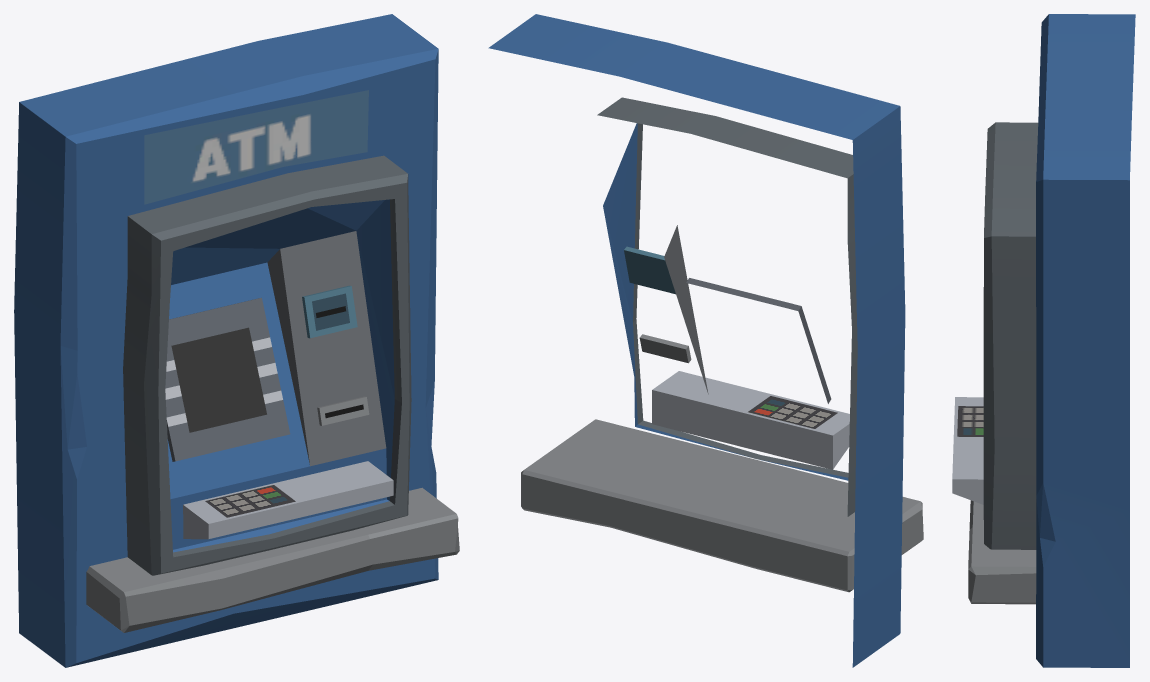
Rendered from atm.glb.
3 renders of one model, left to right at view 1: azimuth 30°, elevation 25°; view 2: azimuth 150°, elevation 25°; view 3: azimuth 270°, elevation 25°, orthographic. The views are drawn at different scales.
Parts seen in each view (by area): view 1: SM_Prop_ATM_01; view 2: SM_Prop_ATM_01; view 3: SM_Prop_ATM_01.
Boxes of the visible parts, x1=… form: SM_Prop_ATM_01: x1=14, y1=14, x2=459, y2=667; SM_Prop_ATM_01: x1=488, y1=14, x2=923, y2=667; SM_Prop_ATM_01: x1=952, y1=14, x2=1135, y2=667.
Bounding box in the file's own units: 1.13 × 1.54 × 0.5191.
1 material, 1 textured.
